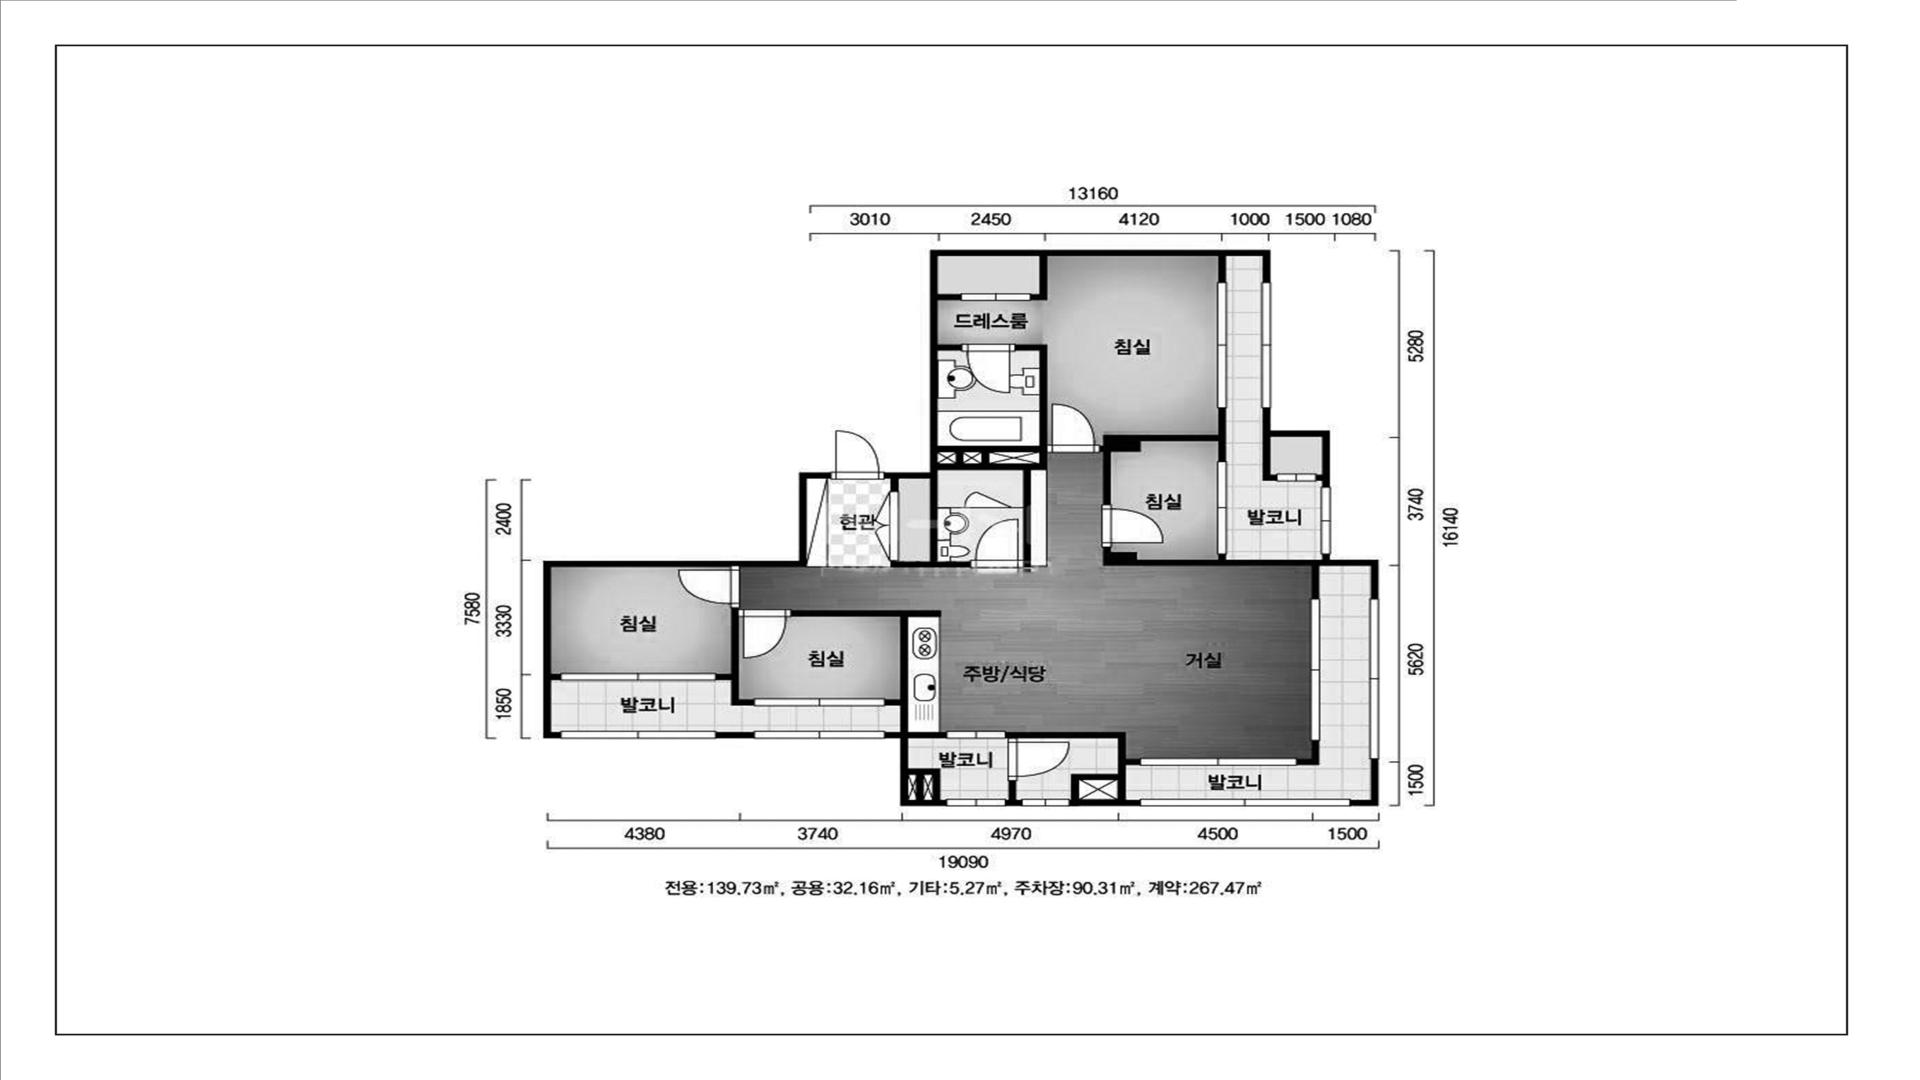door: (830, 430, 885, 479), (969, 518, 1023, 567), (1103, 504, 1164, 547), (1009, 738, 1070, 781), (1047, 403, 1100, 452), (961, 345, 1015, 393), (678, 567, 739, 608), (739, 610, 791, 658), (874, 491, 899, 562), (963, 491, 1011, 508), (961, 294, 1030, 300), (1277, 474, 1316, 481)
wall: (885, 250, 1270, 479), (543, 472, 830, 738), (937, 344, 1047, 567), (791, 610, 941, 731), (1100, 408, 1226, 504), (1103, 547, 1323, 599), (1005, 731, 1140, 800), (891, 479, 969, 567), (1263, 408, 1330, 487), (884, 731, 946, 806), (716, 608, 754, 705), (1323, 554, 1378, 598), (1350, 759, 1378, 806), (908, 768, 940, 800), (1030, 256, 1047, 300), (1263, 437, 1277, 481), (1296, 740, 1319, 765), (1069, 799, 1141, 806), (715, 731, 755, 739), (908, 731, 946, 738), (1218, 256, 1226, 282), (937, 294, 961, 300), (937, 344, 961, 350), (1009, 781, 1016, 800), (1005, 800, 1022, 806), (891, 479, 899, 491), (551, 674, 560, 680), (1316, 474, 1322, 481)
window: (1141, 799, 1350, 806), (1311, 599, 1319, 740), (1371, 598, 1378, 759), (561, 731, 715, 738), (754, 731, 885, 739), (1218, 282, 1226, 408), (1262, 283, 1270, 408), (1140, 759, 1296, 765), (560, 674, 716, 680), (754, 699, 885, 705), (1218, 461, 1226, 554), (1322, 487, 1330, 554), (946, 731, 1005, 738), (946, 800, 1005, 806), (1022, 800, 1069, 806)
